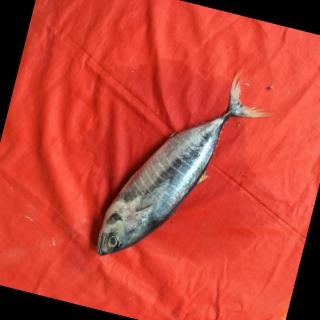Ikan: (69, 34, 280, 297)
